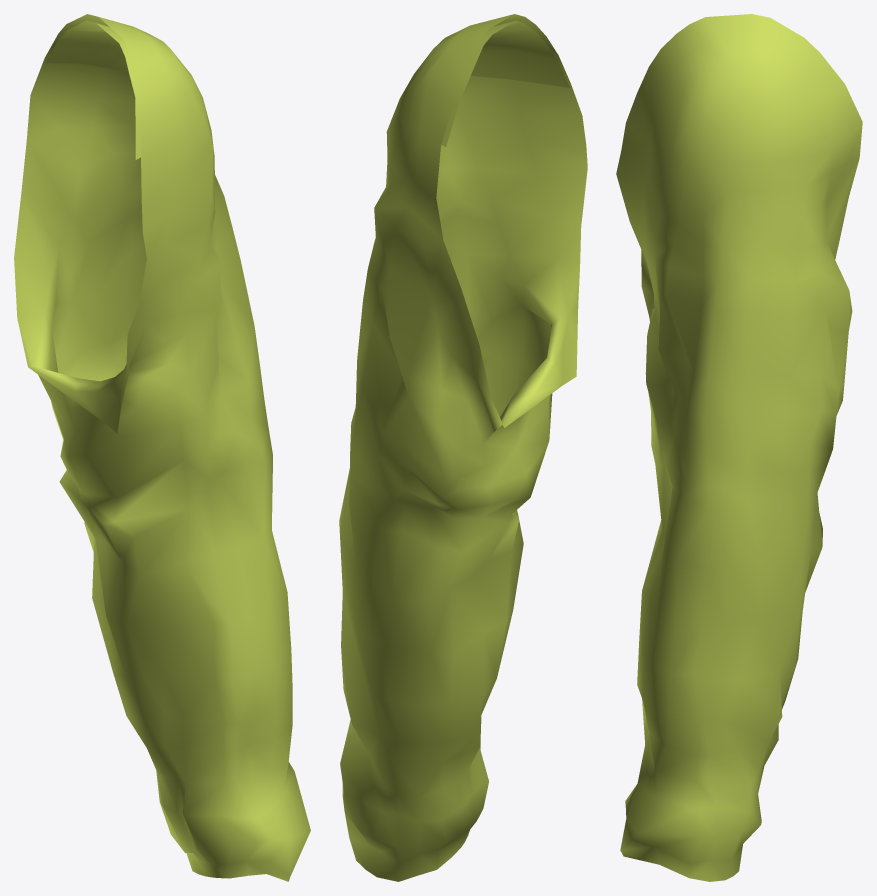
File: right (1).fbx
The picture shows the model from 3 angles, left to right: view 1: azimuth 30°, elevation 25°; view 2: azimuth 150°, elevation 25°; view 3: azimuth 270°, elevation 25°; orthographic projection. The views are drawn at different scales.
Parts seen in each view (by area): view 1: Body_lp.002; view 2: Body_lp.002; view 3: Body_lp.002.
Boxes of the visible parts, left/top/right/bottom form: Body_lp.002: left=14, top=14, right=310, bottom=881; Body_lp.002: left=339, top=14, right=587, bottom=881; Body_lp.002: left=616, top=14, right=862, bottom=881.
Bounding box in the file's own units: 151 × 583 × 162.
